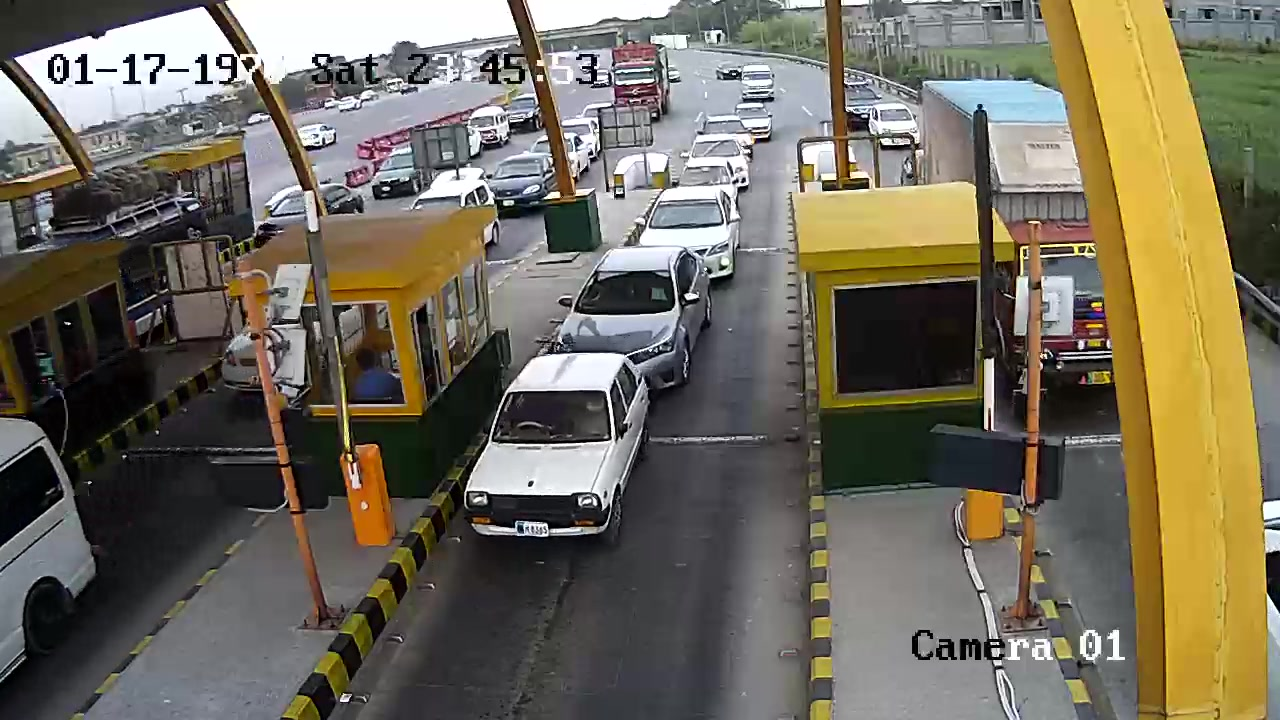F1: (455, 352, 655, 564)
